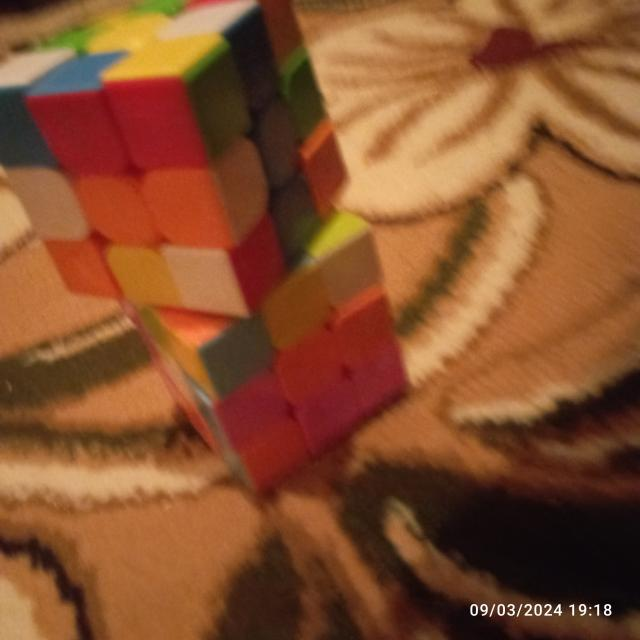Rub: (0, 0, 352, 319), (116, 194, 409, 500)
